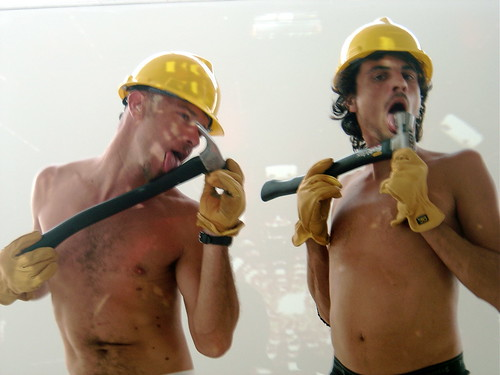person hardhat: (267, 15, 500, 375), (2, 50, 247, 375)
